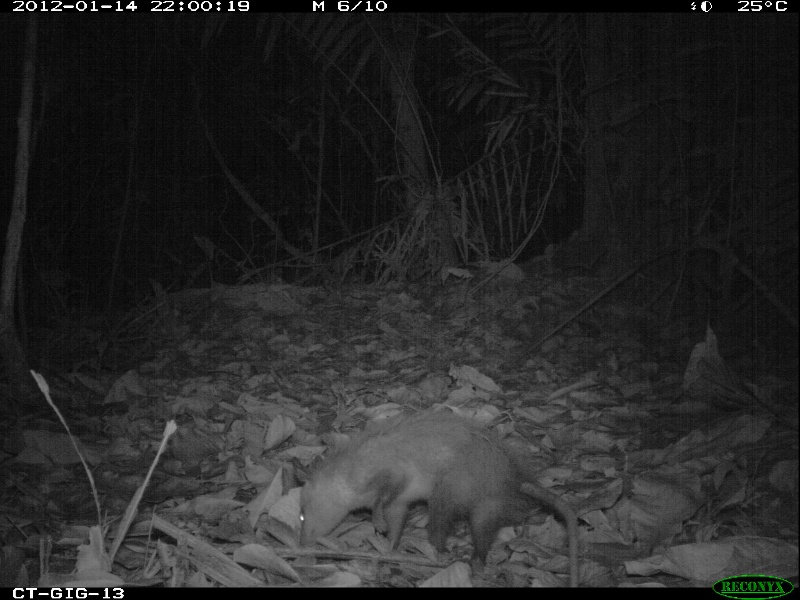opossum: (287, 412, 584, 589)
